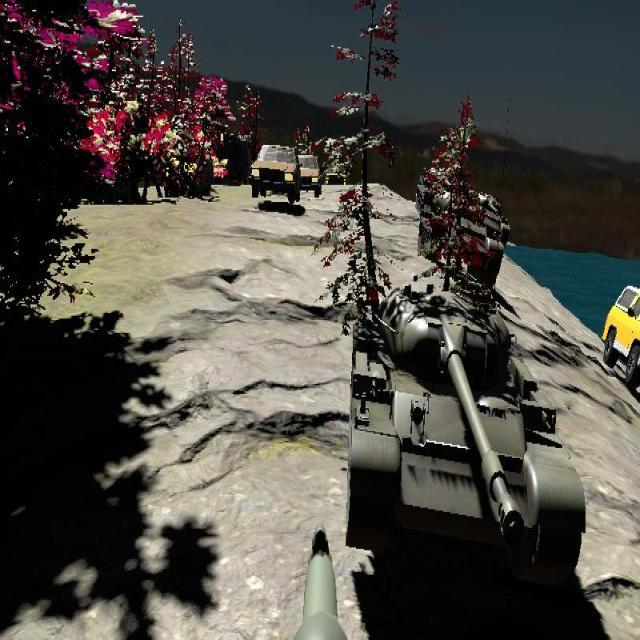Tank: (348, 281, 586, 587), (417, 170, 509, 283)
car: (601, 283, 640, 396), (250, 143, 300, 203), (296, 153, 322, 198)
